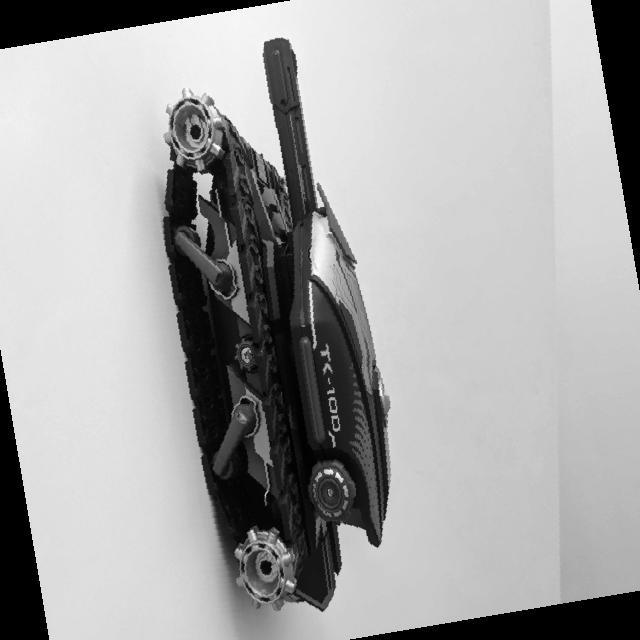barrel: (261, 36, 319, 227)
